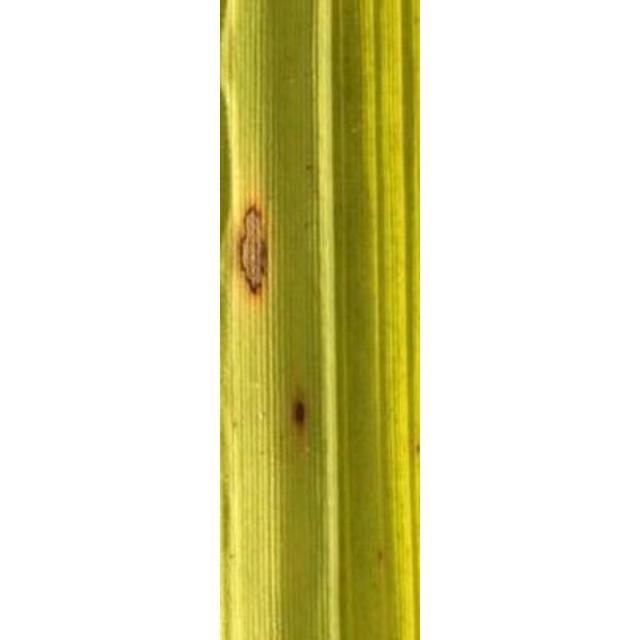healthy: (191, 0, 440, 640)
